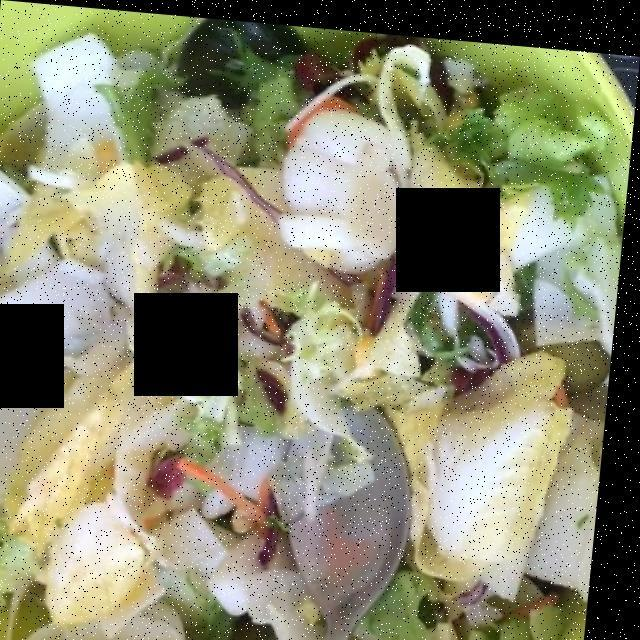salad: (0, 42, 619, 640)
witloof-chicory: (0, 93, 585, 606)
